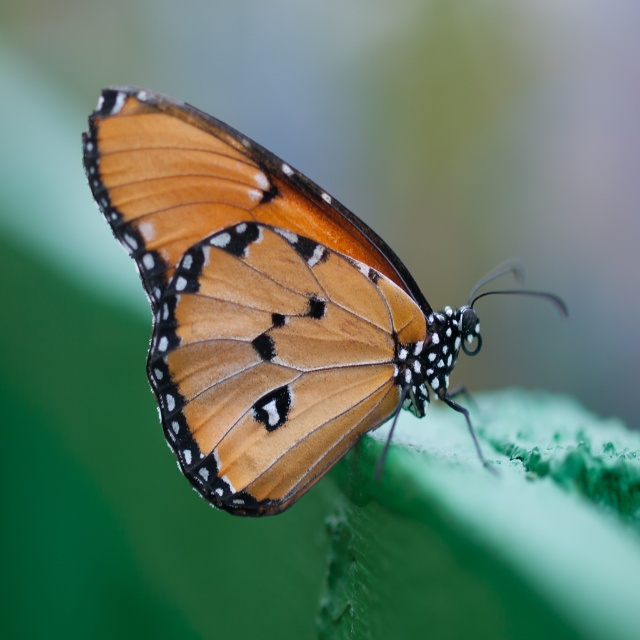Butterfly: (80, 86, 565, 518)
